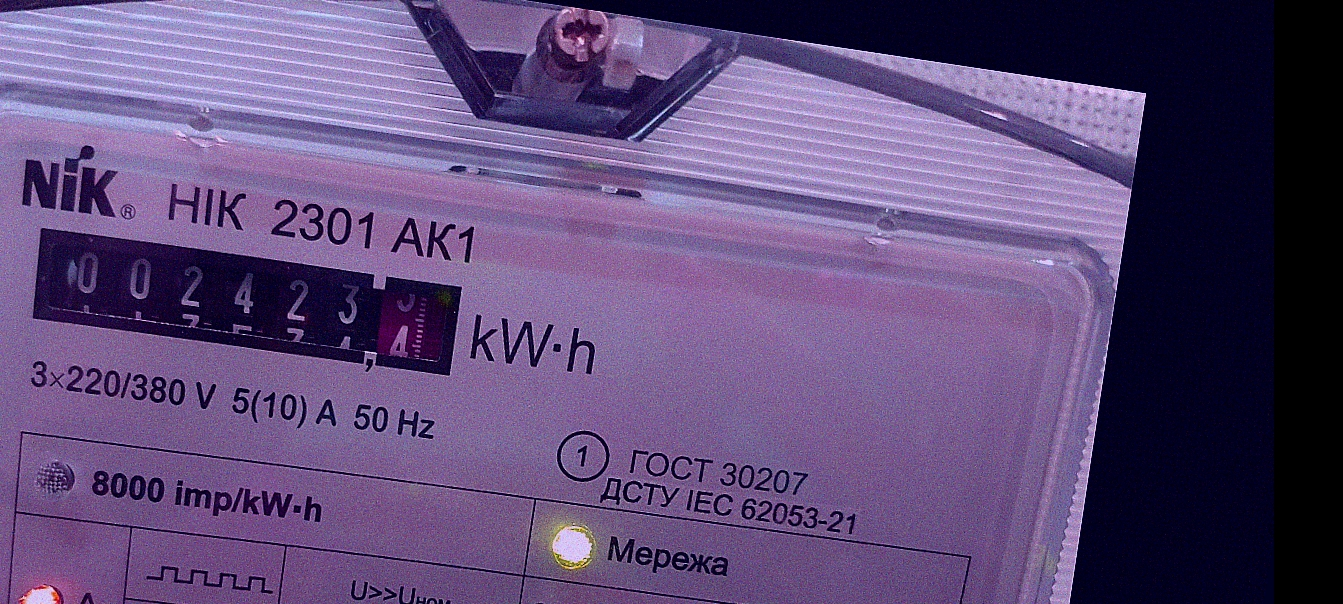0: (71, 246, 104, 298), (124, 254, 155, 302)
2: (175, 260, 207, 310), (282, 276, 312, 324)
3: (333, 280, 363, 328), (393, 288, 418, 314)
4: (229, 268, 258, 317), (385, 319, 415, 360)
screen: (15, 211, 477, 395)
